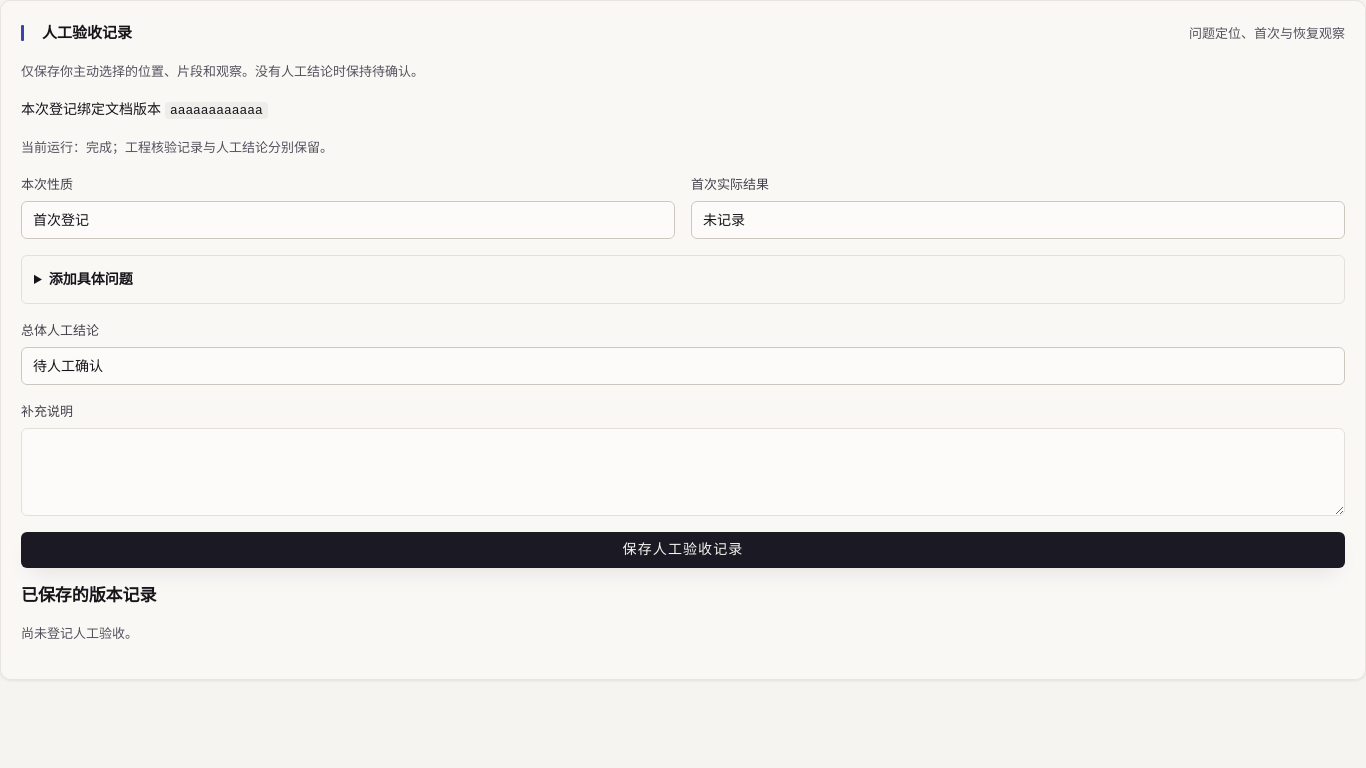
Scenario: a version conflict keeps user input and does not request a new version automatically
Check: the dropdown labelled "总体人工结论" is shown, box [21, 347, 1345, 385]
Type "preserve this draft" into the text box labelled "补充说明" at (683, 472), box [21, 428, 1345, 516]
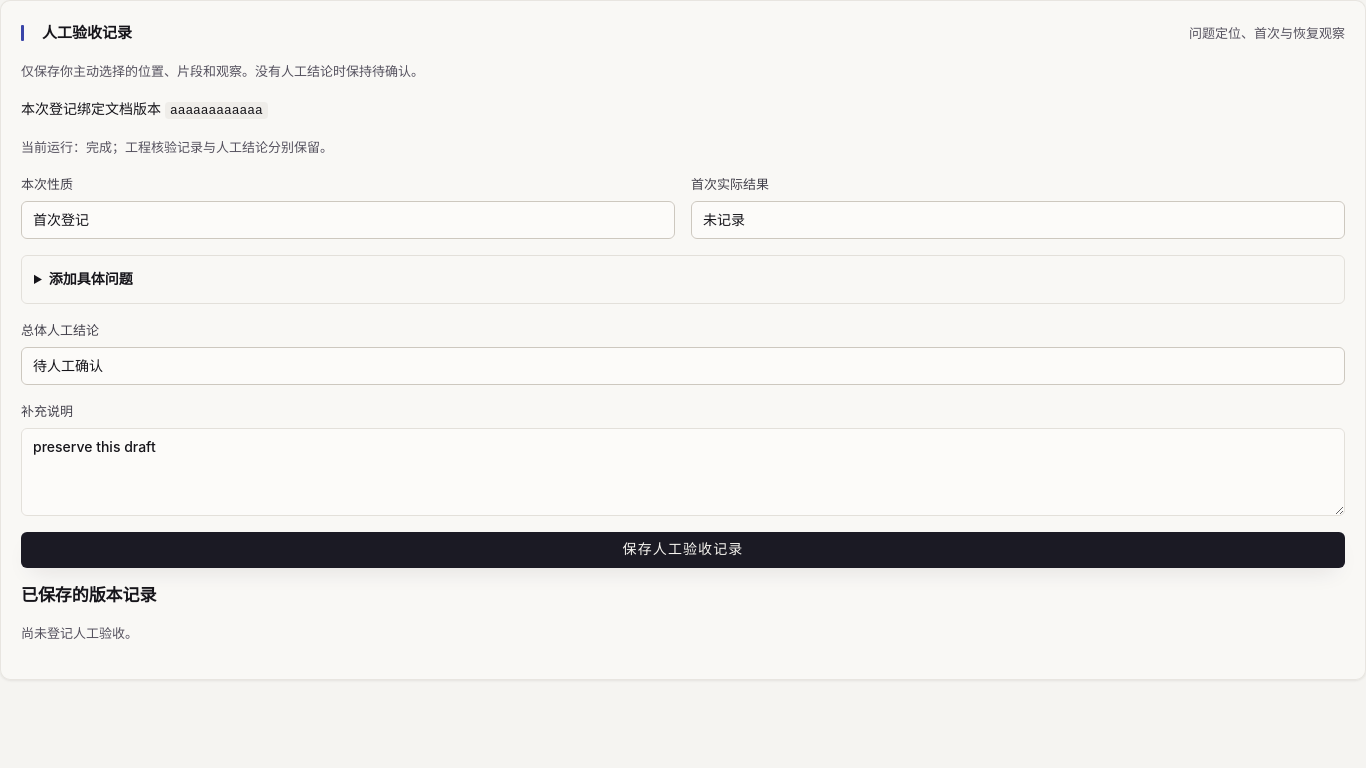
Click the button "保存人工验收记录" at (683, 550), box [21, 532, 1345, 568]
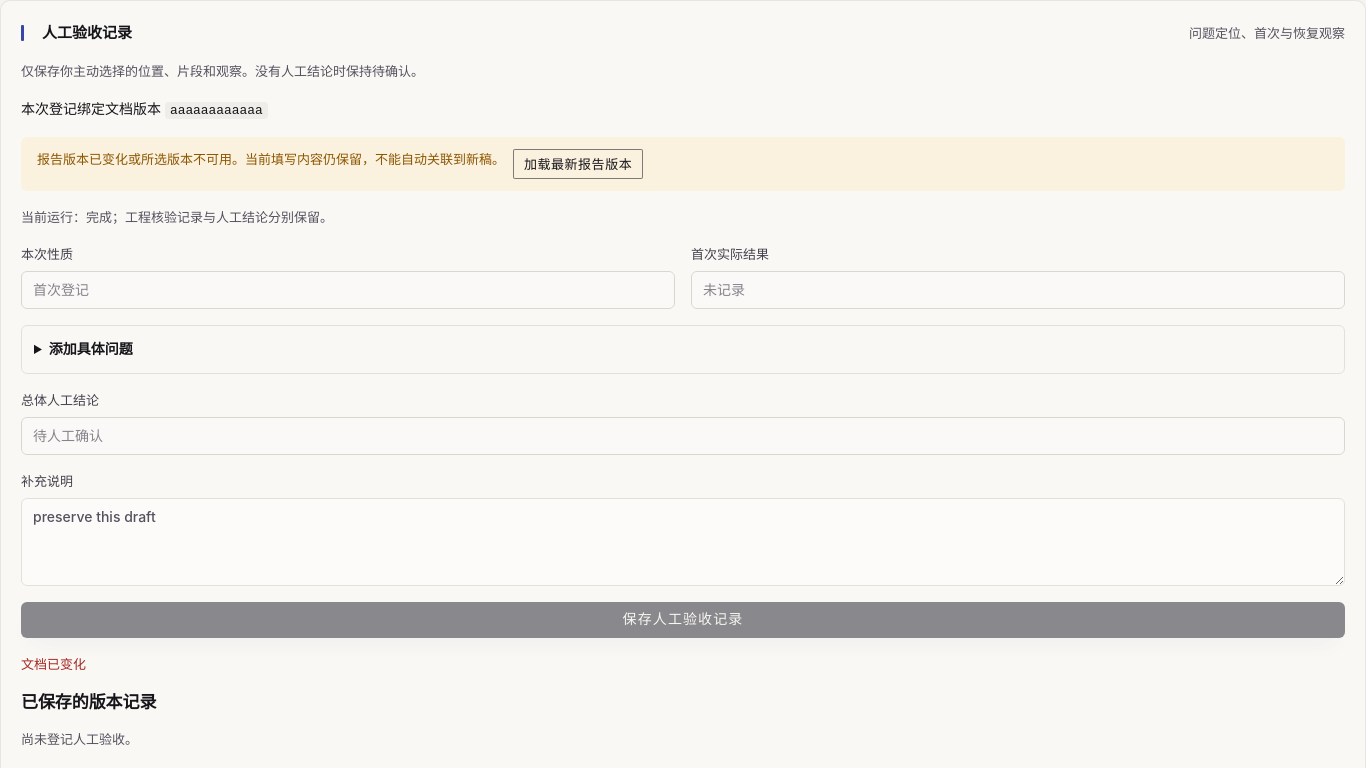
Check: the button "保存人工验收记录" is disabled, box [21, 602, 1345, 638]
Check: the button "加载最新报告版本" is shown, box [513, 149, 643, 179]
